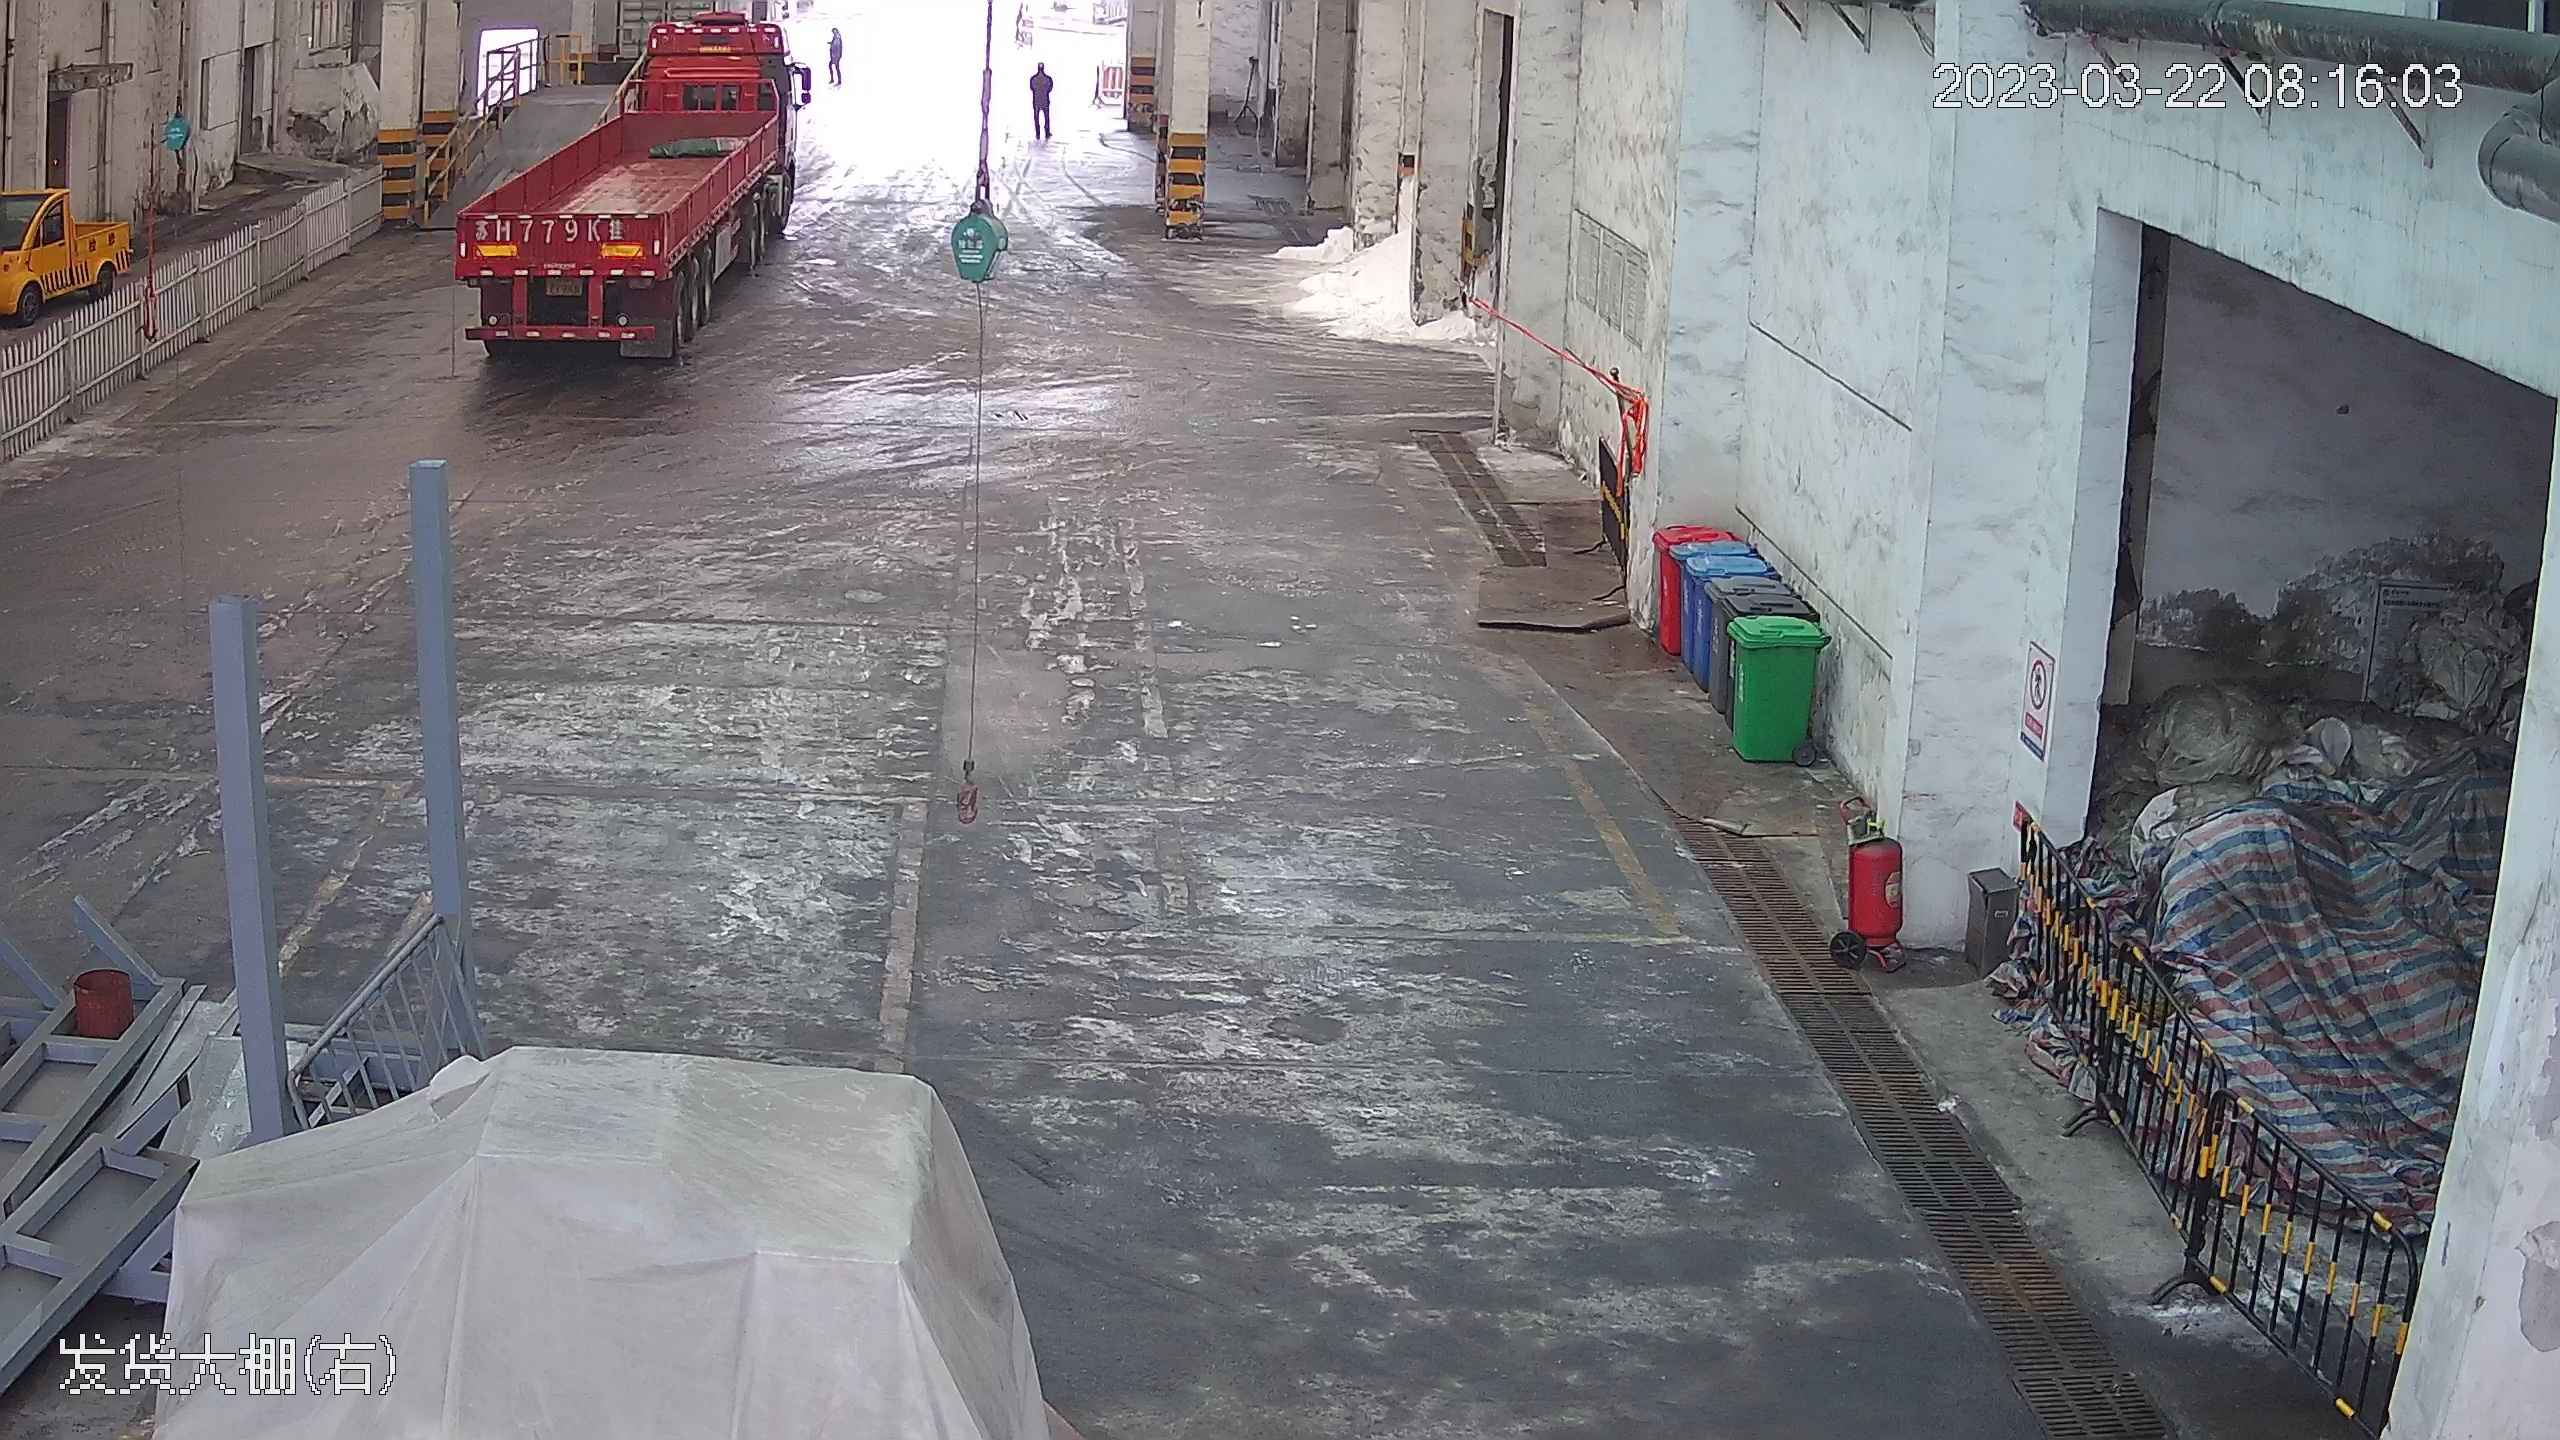people: (1029, 52, 1060, 145), (817, 19, 847, 87)
truck: (436, 11, 809, 363)
